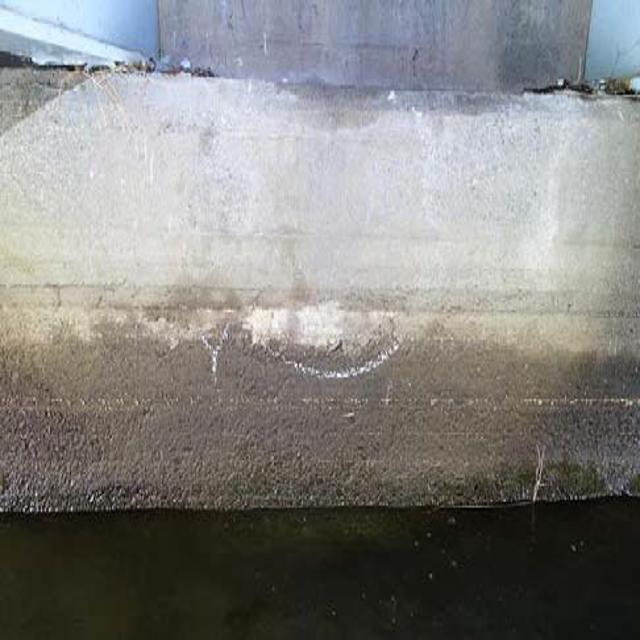freelime: (229, 283, 374, 346)
